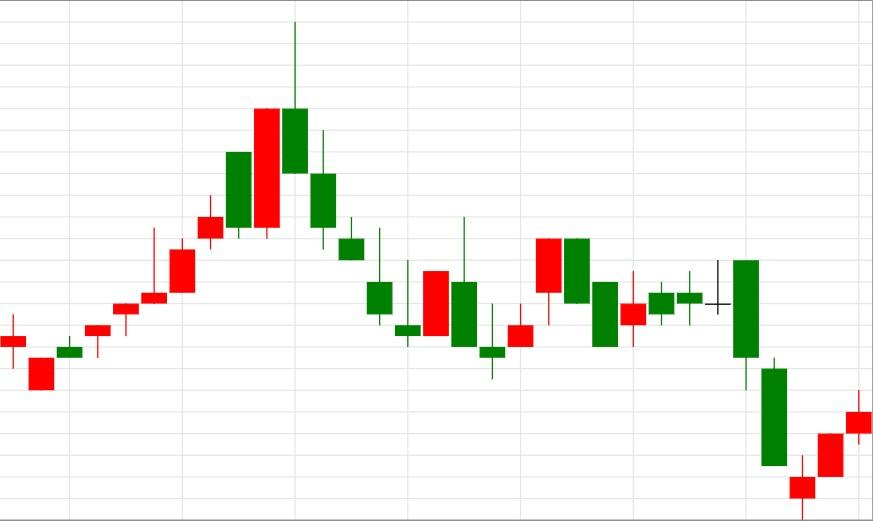three_black_crows_fall: (27, 21, 365, 390)
three_white_soldiers_rise: (732, 259, 873, 521)
